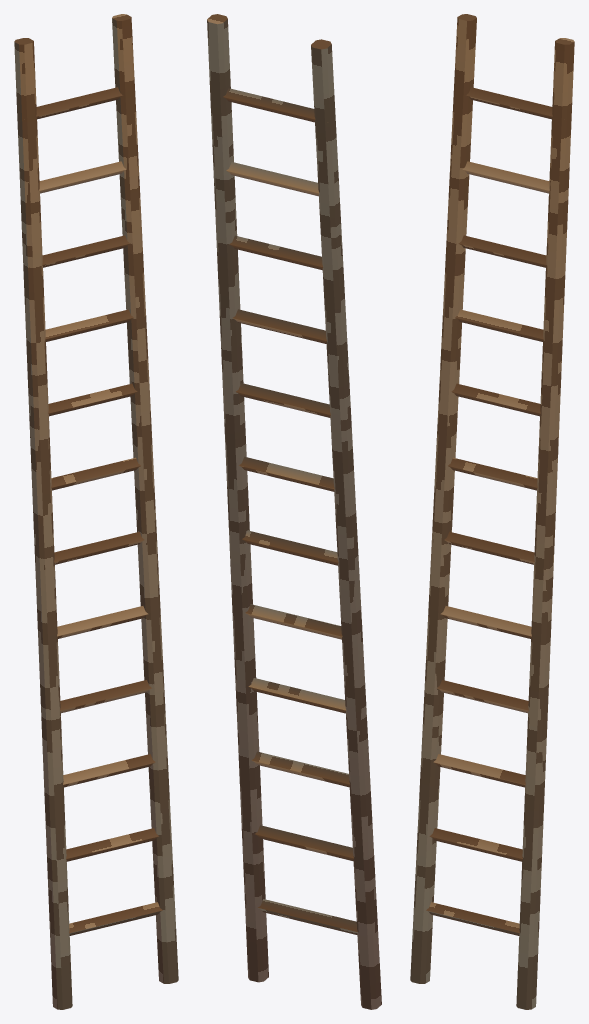
The model's file is wmine.ladder__tall.glb.
The picture shows the model from 3 angles, left to right: view 1: azimuth 30°, elevation 25°; view 2: azimuth 150°, elevation 25°; view 3: azimuth 330°, elevation 25°; orthographic projection. The views are drawn at different scales.
Visible parts, largest first — view 1: kit_poles, kit_rungs; view 2: kit_poles, kit_rungs; view 3: kit_poles, kit_rungs.
Part boxes in pixels (x1,y1,x2,y2): kit_poles: (14,14,178,1009); kit_rungs: (24,87,162,935); kit_poles: (207,14,381,1009); kit_rungs: (223,88,357,934); kit_poles: (410,14,574,1009); kit_rungs: (426,87,564,935).
Bounding box in the file's own units: 0.57 × 4.21 × 0.4198.
Materials: 2 (2 with a texture image).
